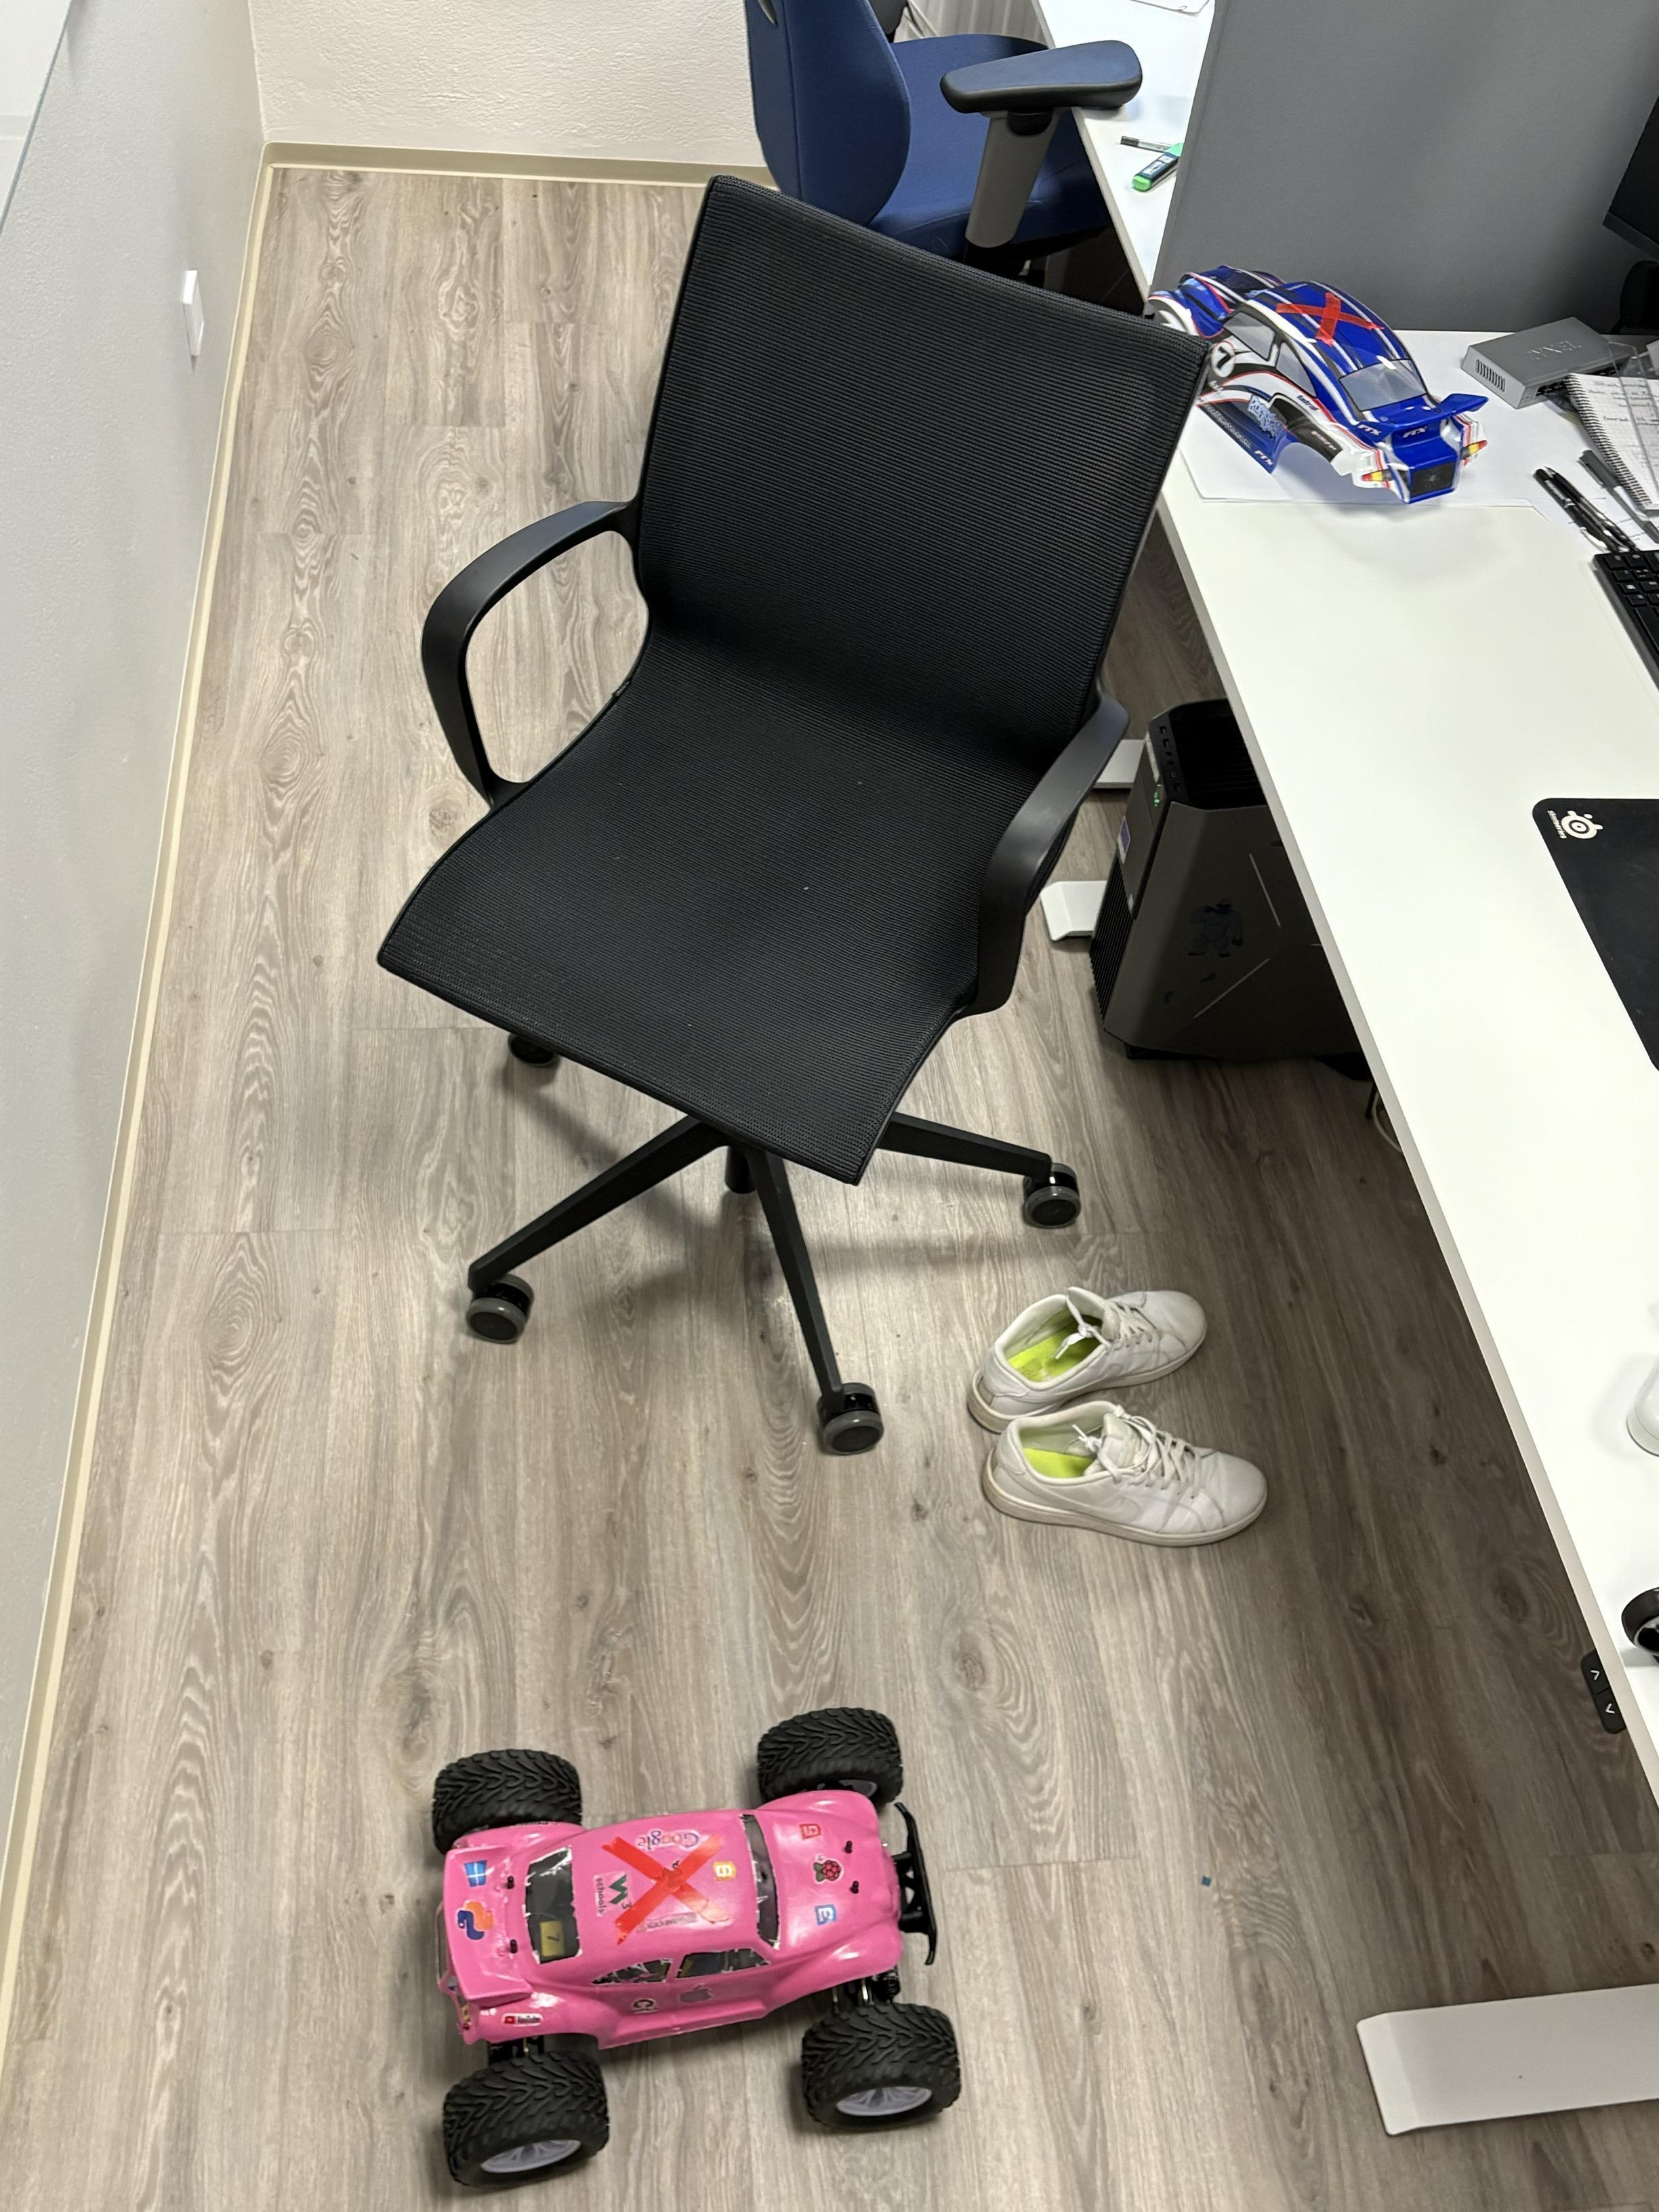Car: (315, 1664, 1050, 2212)
